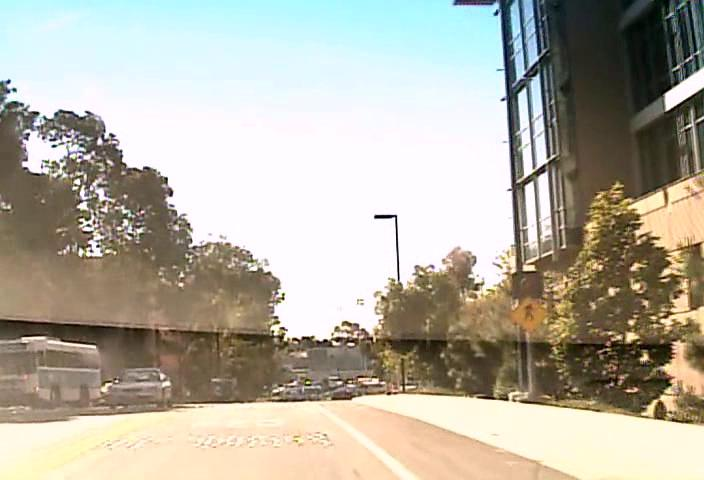pedestrianCrossing: (508, 295, 548, 333)
